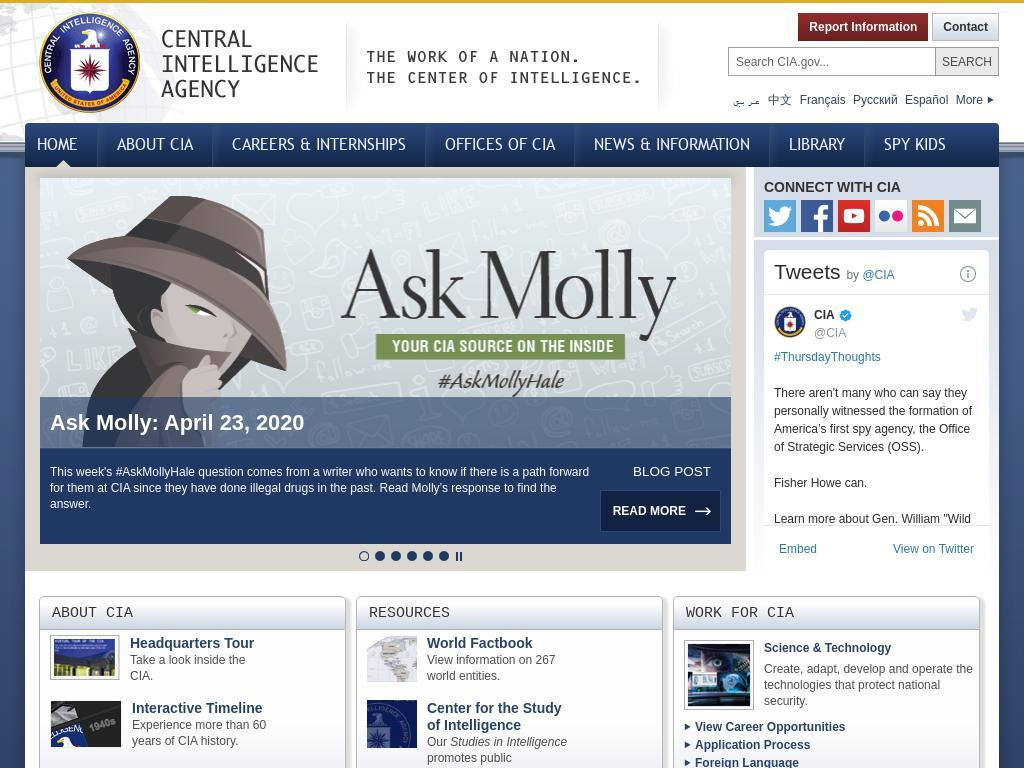button: (39, 12, 318, 114), (212, 123, 425, 167), (574, 123, 769, 167), (425, 123, 574, 167), (599, 489, 722, 532), (97, 123, 212, 167), (864, 123, 965, 167), (769, 123, 864, 167), (798, 13, 929, 41), (25, 123, 97, 167), (616, 463, 721, 490), (684, 718, 846, 735), (684, 736, 811, 753), (932, 13, 1000, 41), (684, 754, 800, 768), (764, 200, 796, 232), (801, 200, 833, 232), (838, 200, 870, 232), (875, 200, 907, 232), (912, 200, 944, 232), (949, 200, 981, 232), (955, 93, 994, 107), (359, 550, 370, 561), (375, 550, 386, 561), (391, 550, 402, 561), (407, 550, 418, 561), (423, 550, 434, 561), (439, 550, 450, 561), (455, 550, 466, 561)
field: (728, 47, 935, 76), (935, 47, 999, 76)
heading: (25, 123, 999, 167), (346, 22, 677, 110), (39, 12, 318, 114), (50, 411, 721, 433), (52, 603, 345, 621), (369, 603, 662, 621), (686, 603, 979, 621), (427, 699, 562, 733), (764, 179, 989, 195), (132, 699, 262, 716), (130, 634, 254, 651), (764, 640, 891, 655), (427, 634, 533, 651)
iframe: (764, 250, 989, 572)
image: (40, 178, 731, 447), (25, 3, 999, 144), (684, 639, 752, 708), (50, 699, 122, 748), (50, 634, 120, 680), (367, 699, 417, 749), (367, 634, 417, 682), (55, 160, 72, 168)
link: (799, 93, 846, 107), (853, 93, 899, 107), (904, 93, 948, 107), (733, 93, 762, 107), (50, 765, 176, 768), (768, 93, 793, 107)
text: (50, 463, 721, 512), (684, 660, 977, 709), (427, 651, 577, 684), (130, 651, 265, 684), (132, 716, 267, 749), (232, 135, 406, 155), (594, 135, 750, 155), (445, 135, 555, 155), (450, 734, 568, 749), (427, 750, 516, 768), (117, 135, 193, 155), (406, 550, 493, 565), (884, 135, 946, 155), (789, 135, 845, 155), (37, 135, 78, 155), (369, 550, 407, 565), (955, 93, 983, 107), (427, 734, 450, 749)
